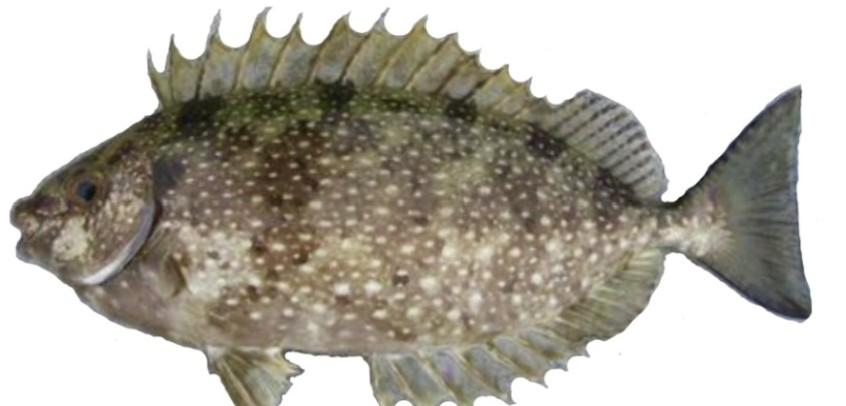fish: (11, 16, 810, 405)
